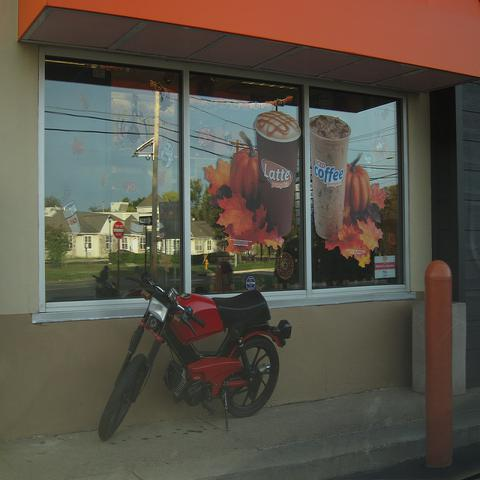motorcycle: (98, 265, 292, 441)
